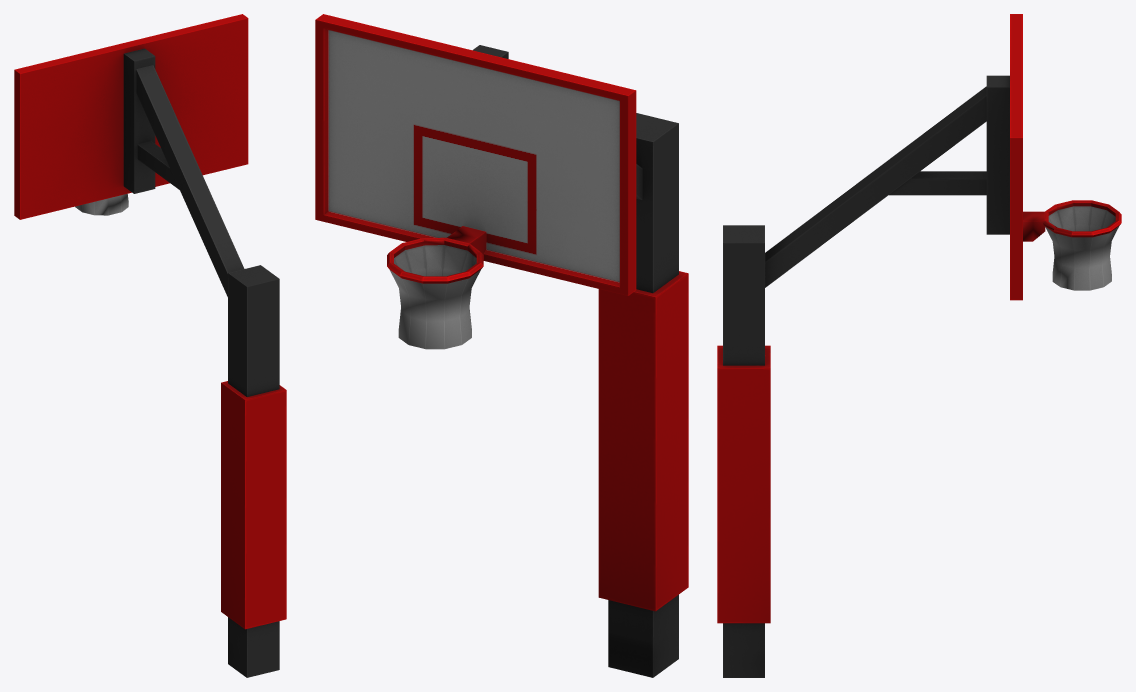
Rendered from BasketballHoop.fbx.
3 views of the same model, side by side, from view 1: azimuth 30°, elevation 25°; view 2: azimuth 150°, elevation 25°; view 3: azimuth 270°, elevation 25° (orthographic). The views are drawn at different scales.
Visible parts, largest first — view 1: Hoop; view 2: Hoop; view 3: Hoop.
Part boxes in pixels (left/top/right/bottom): Hoop: left=14, top=14, right=286, bottom=677; Hoop: left=315, top=14, right=688, bottom=677; Hoop: left=717, top=14, right=1121, bottom=677.
Bounding box in the file's own units: 180 × 248 × 402.
